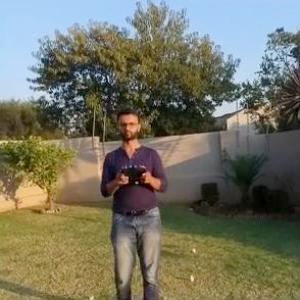follow: (95, 103, 174, 299)
